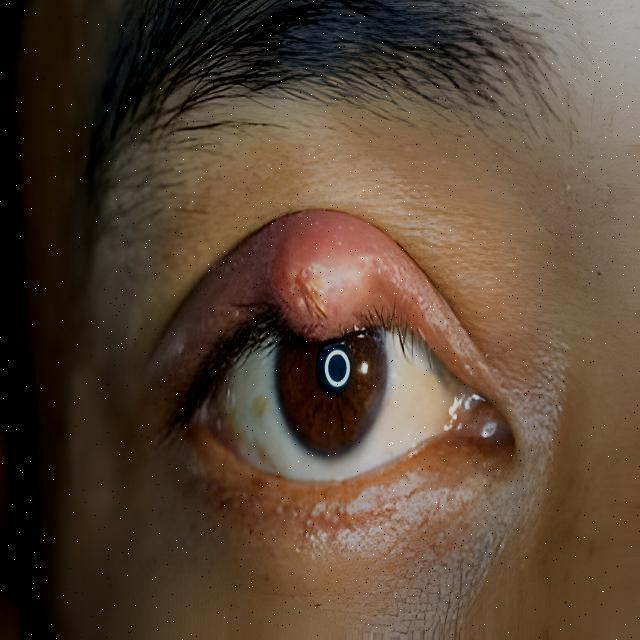Stye: (226, 208, 422, 356)
